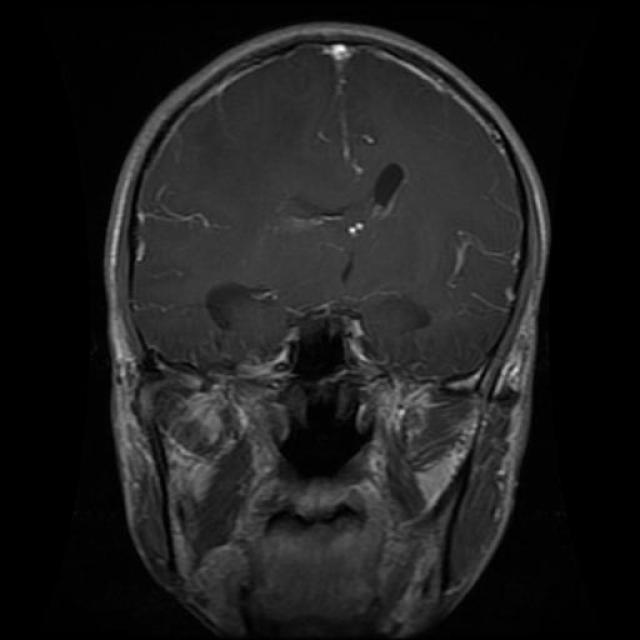glioma: (368, 158, 412, 212)
